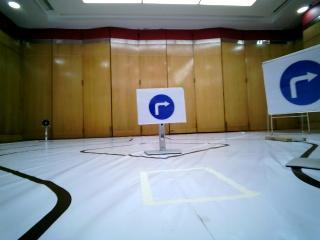right: (263, 60, 320, 103), (139, 90, 188, 122)
